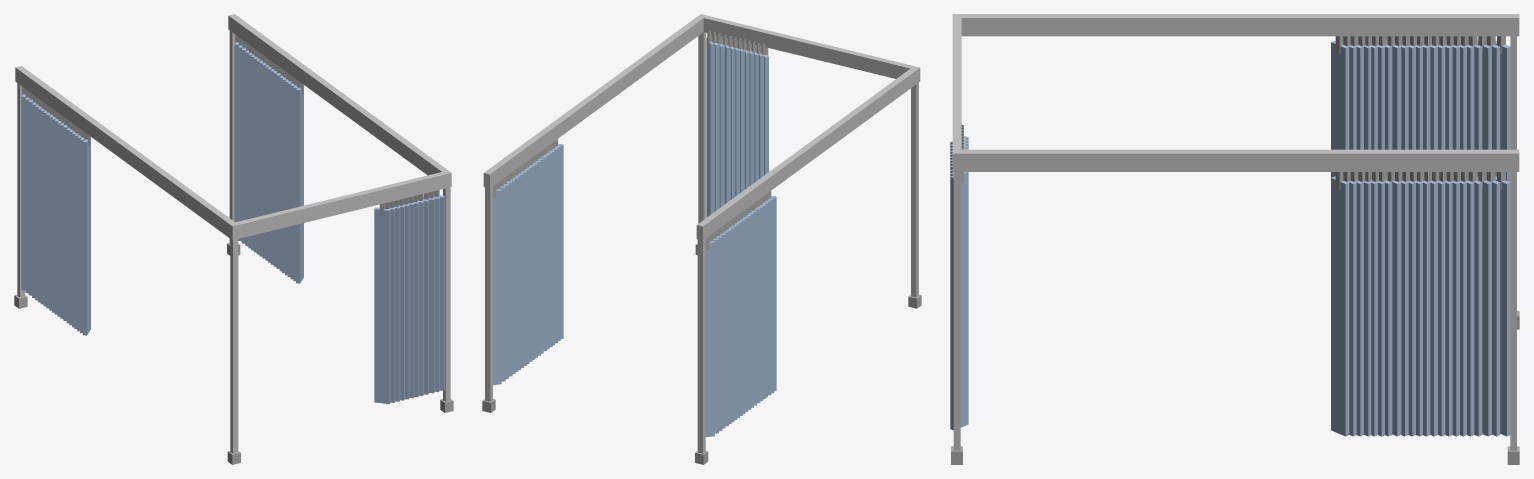
File: screen_1.fbx
The picture shows the model from 3 angles, left to right: view 1: azimuth 30°, elevation 25°; view 2: azimuth 150°, elevation 25°; view 3: azimuth 270°, elevation 25°; orthographic projection. The views are drawn at different scales.
Parts seen in each view (by area): view 1: Null; view 2: Null; view 3: Null.
Part boxes in pixels (x1=…): Null: x1=14, y1=14, x2=453, y2=464; Null: x1=482, y1=14, x2=921, y2=464; Null: x1=950, y1=14, x2=1519, y2=464.
Size of the model in its own units: 79.3 by 80.04 by 133.
